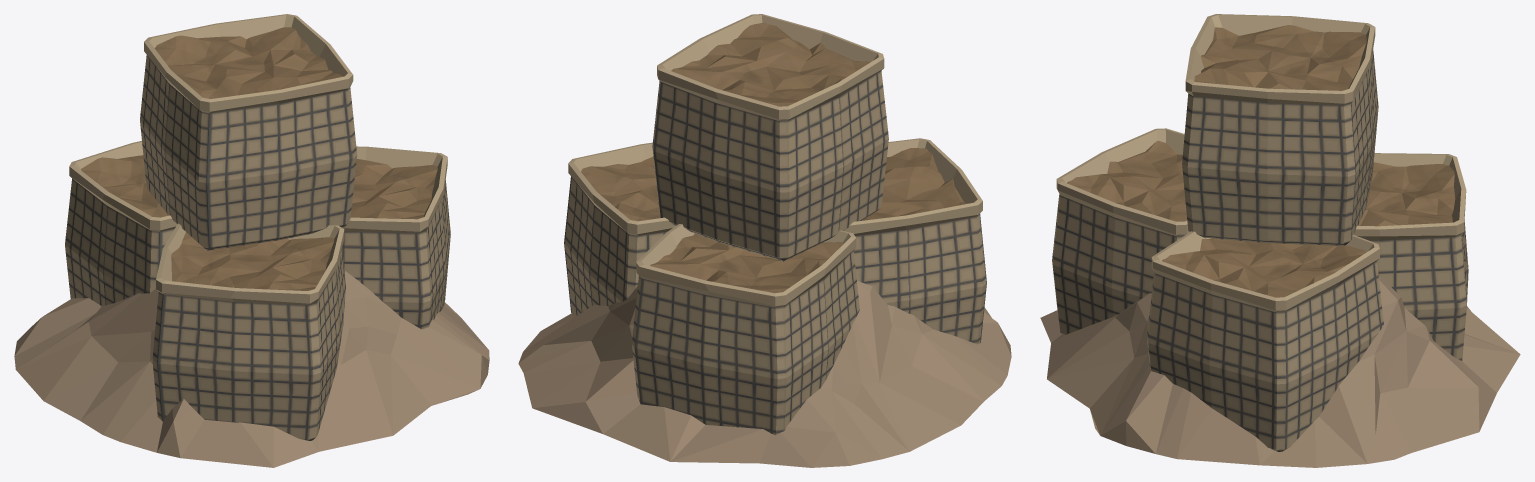
Rendered from SM_Prop_Barrier_Base_Group_01.glb.
3 renders of one model, left to right at view 1: azimuth 30°, elevation 25°; view 2: azimuth 150°, elevation 25°; view 3: azimuth 270°, elevation 25°, orthographic. The views are drawn at different scales.
Parts seen in each view (by area): view 1: SM_Prop_Barrier_Base_Group_01; view 2: SM_Prop_Barrier_Base_Group_01; view 3: SM_Prop_Barrier_Base_Group_01.
Part boxes in pixels (box(x1,y1,x2,y2)): SM_Prop_Barrier_Base_Group_01: box(14, 14, 489, 467); SM_Prop_Barrier_Base_Group_01: box(518, 14, 1011, 467); SM_Prop_Barrier_Base_Group_01: box(1040, 14, 1520, 467).
Bounding box in the file's own units: 2.96 × 2.12 × 2.97.
Materials: 1 (1 with a texture image).
